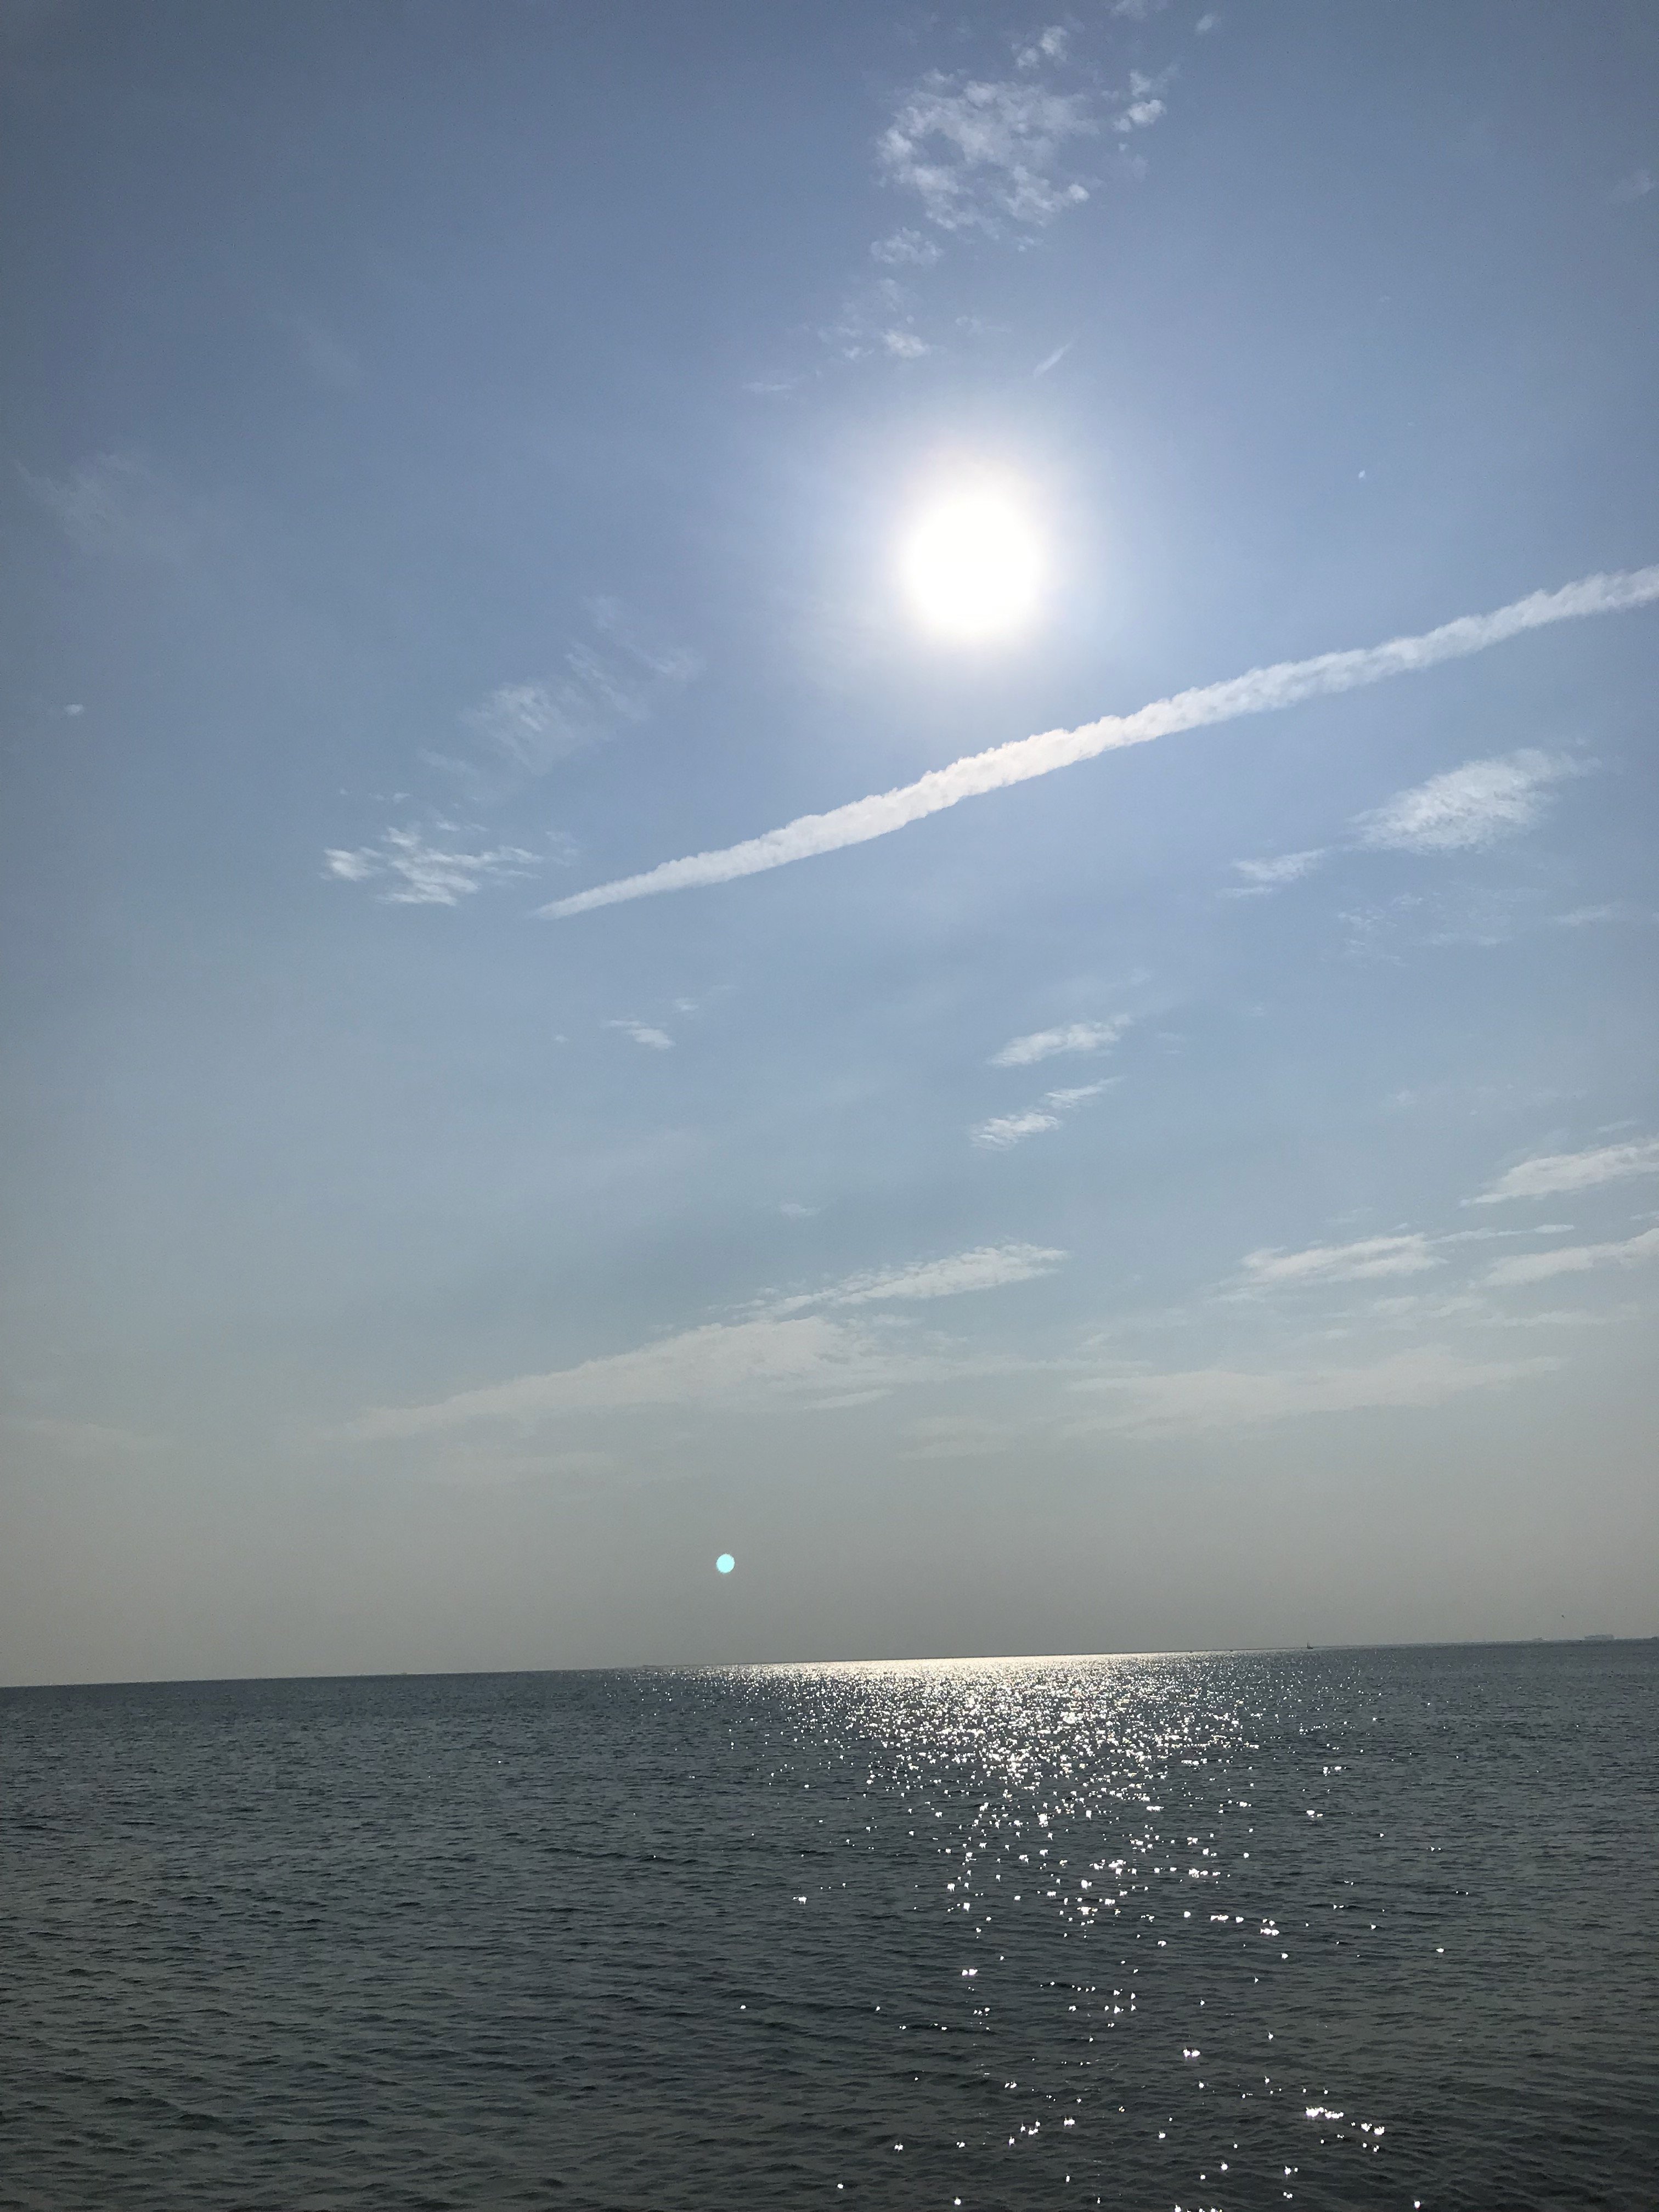flare: (714, 1552, 737, 1576)
